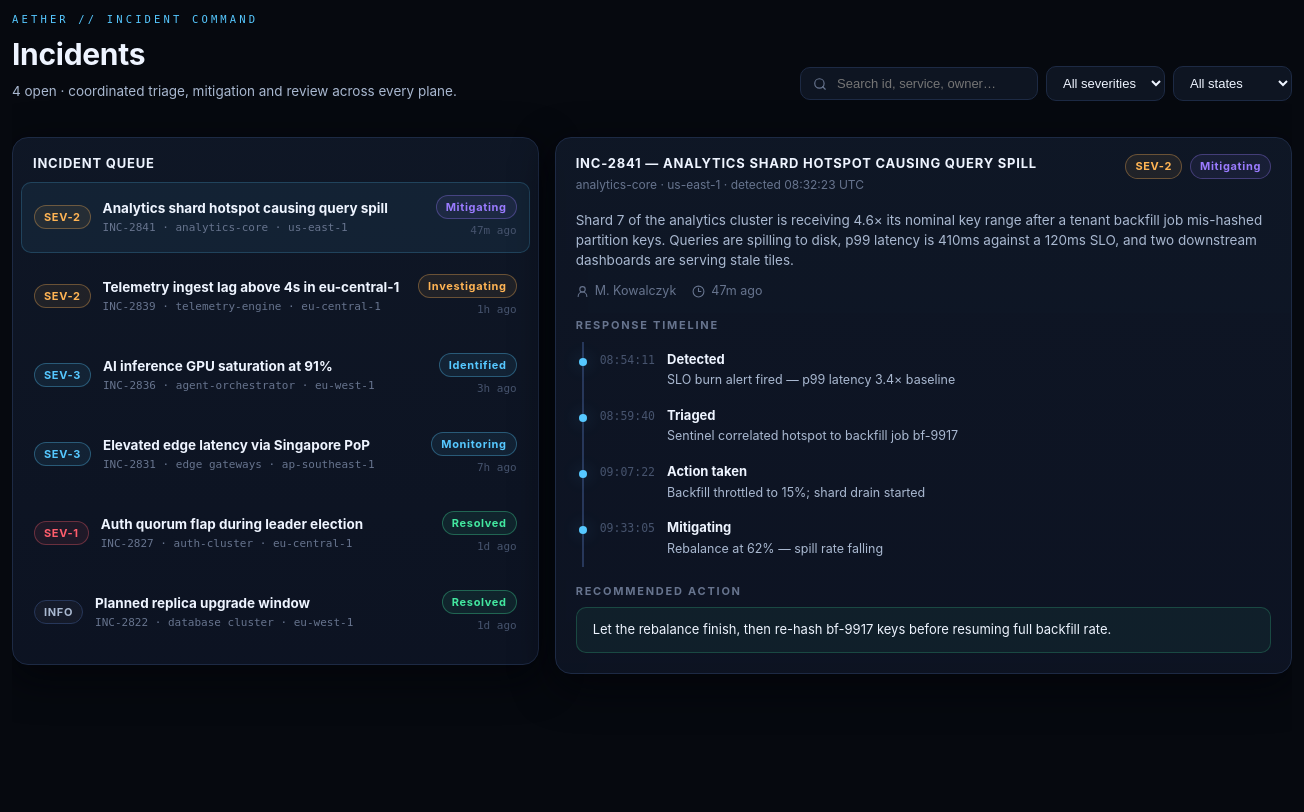
Test: incident command center › switches detail view when a row is clicked
The width and height of the screenshot is (1304, 812).
Step 1. Click the button "AI inference GPU saturation" → [275, 375], box [21, 340, 530, 410]
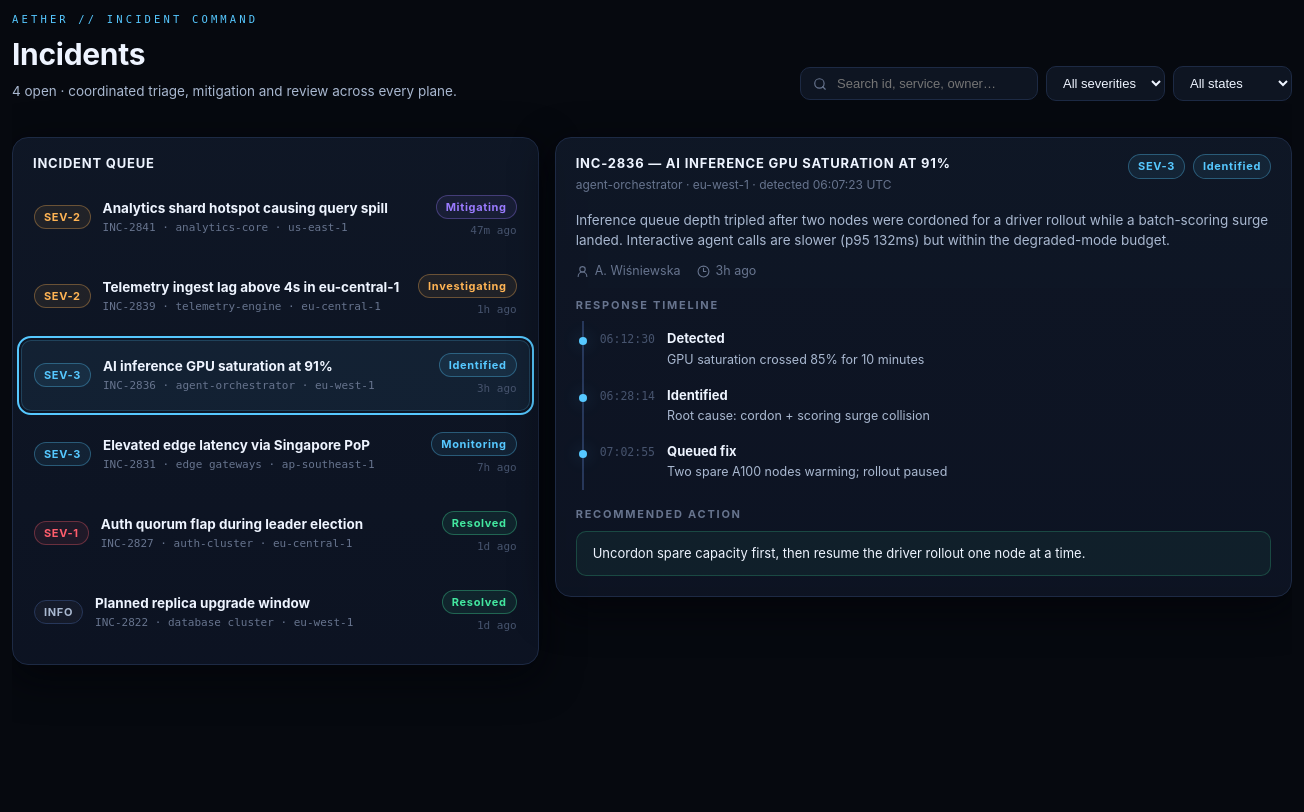
expect the text "Interactive agent calls are slower" is shown: met, box [576, 212, 1268, 248]
